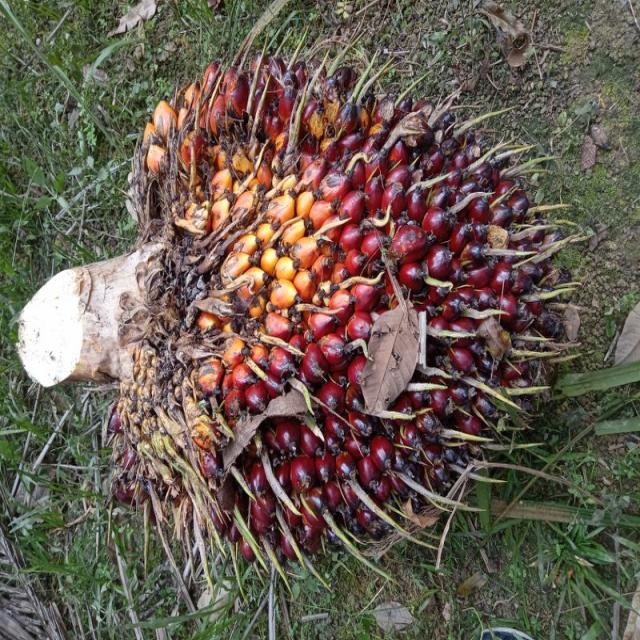fraksi 1: (117, 54, 566, 566)
